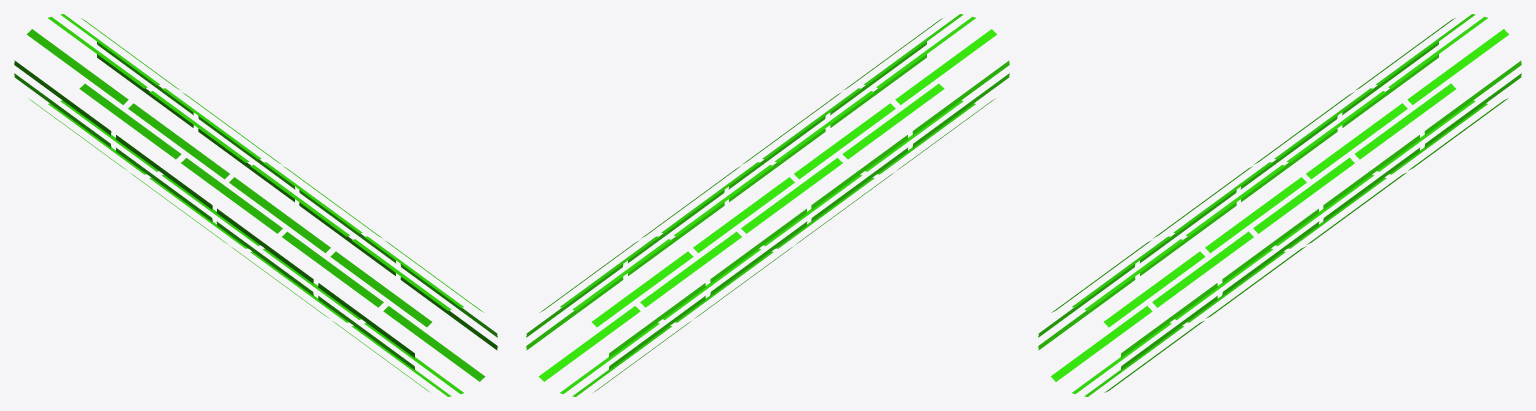
File: avzschopschzou4ts98olkrp5g93io6t5nshschra98ieket6shgr4p45-ldgarotstekz543ln-605sh9rgyishk567t7in8kurp8gshk45sch69gpr5nl-shp.fbx
The picture shows the model from 3 angles, left to right: view 1: azimuth 30°, elevation 25°; view 2: azimuth 150°, elevation 25°; view 3: azimuth 330°, elevation 25°; orthographic projection.
Parts seen in each view (by area): view 1: Cylinder.006, Cylinder, Cylinder.004, Cylinder.002; view 2: Cylinder, Cylinder.006, Cylinder.002, Cylinder.004; view 3: Cylinder.006, Cylinder, Cylinder.004, Cylinder.002.
Boxes of the visible parts, x1,y1,x2,y2 form: Cylinder.006: (318,236,497,396); Cylinder: (14,14,193,174); Cylinder.004: (216,162,396,322); Cylinder.002: (115,88,295,248); Cylinder: (526,236,705,396); Cylinder.006: (830,14,1009,174); Cylinder.002: (627,162,807,322); Cylinder.004: (728,88,908,248); Cylinder.006: (1038,236,1217,396); Cylinder: (1342,14,1521,174); Cylinder.004: (1139,162,1319,322); Cylinder.002: (1240,88,1420,248).
Bounding box in the file's own units: 361 × 360 × 3017.
